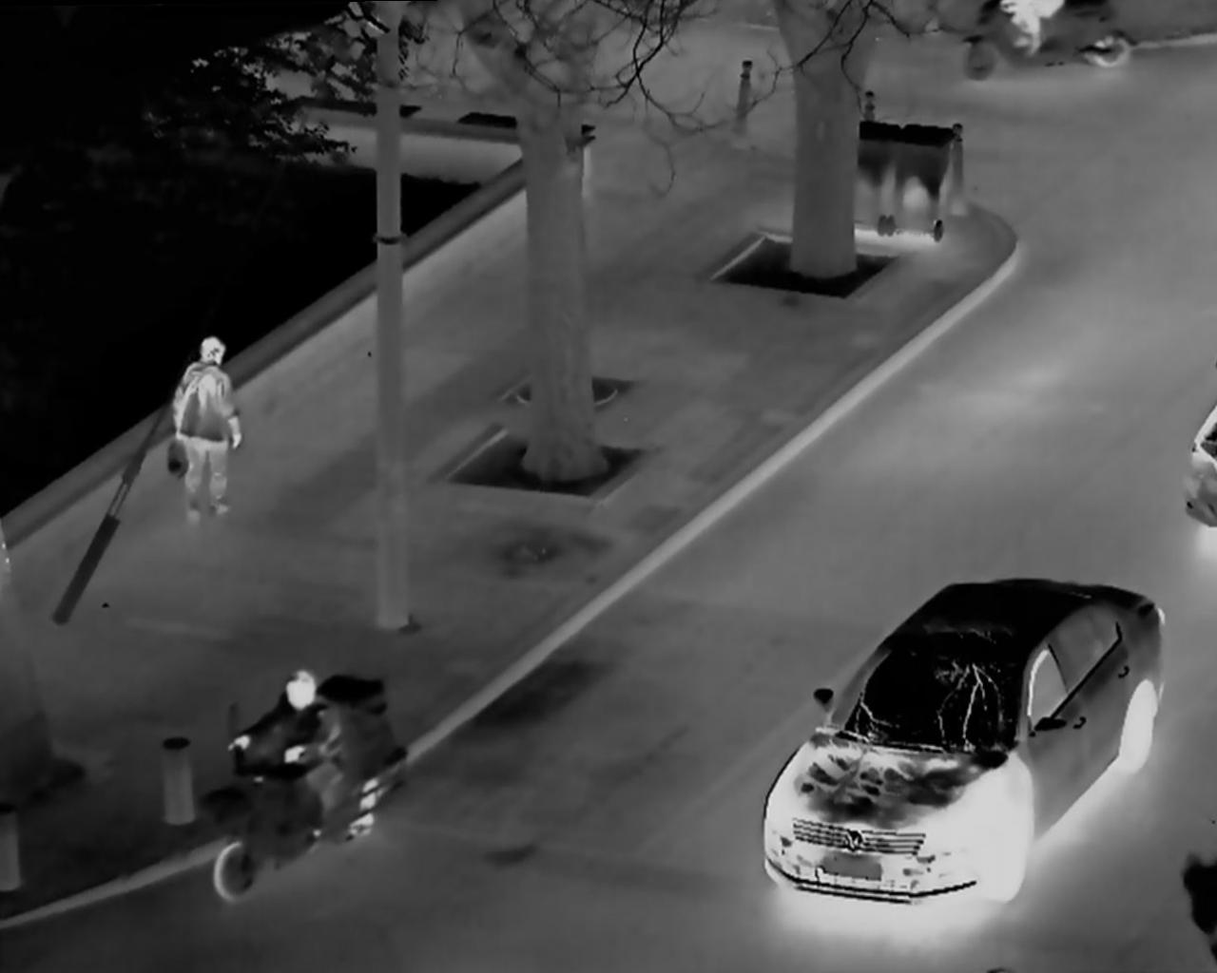person: (227, 663, 349, 833), (165, 330, 245, 525)
